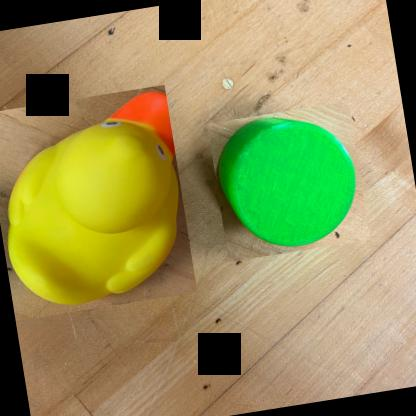duck: (0, 84, 197, 320)
green cylinder: (207, 100, 370, 262)
